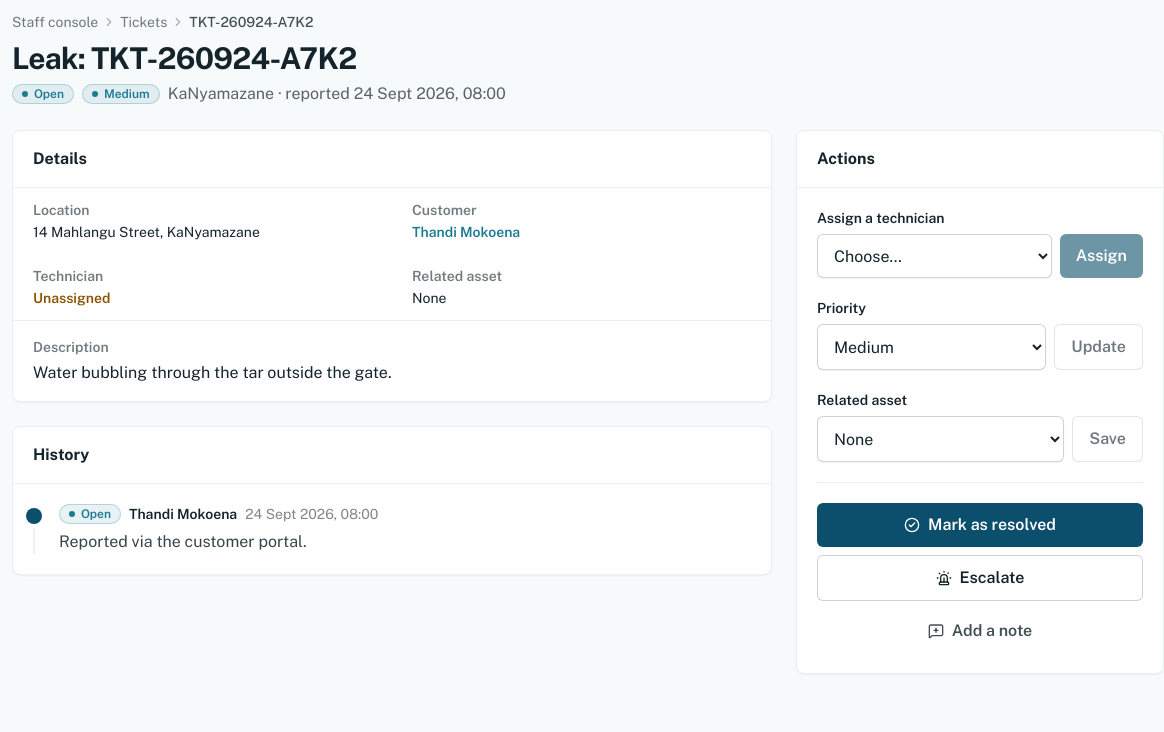
Ticket page: call centre › assigns a technician: one change with a matching history entry
Expected: the heading "Leak: TKT-260924-A7K2" is shown, [12, 40, 356, 76]
Select "Bongani Dube" in the dropdown labelled "Assign a technician" at (934,256), box [817, 234, 1052, 278]
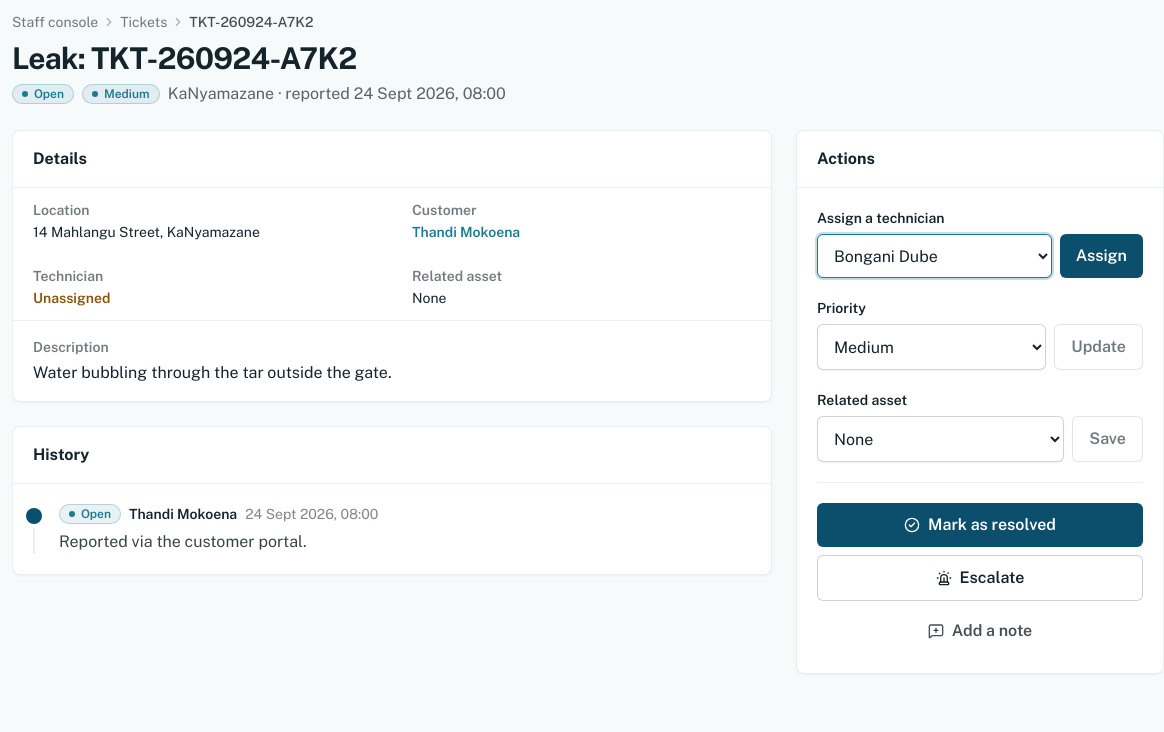
Click the button "Assign" at (1101,256), box [1060, 234, 1143, 278]
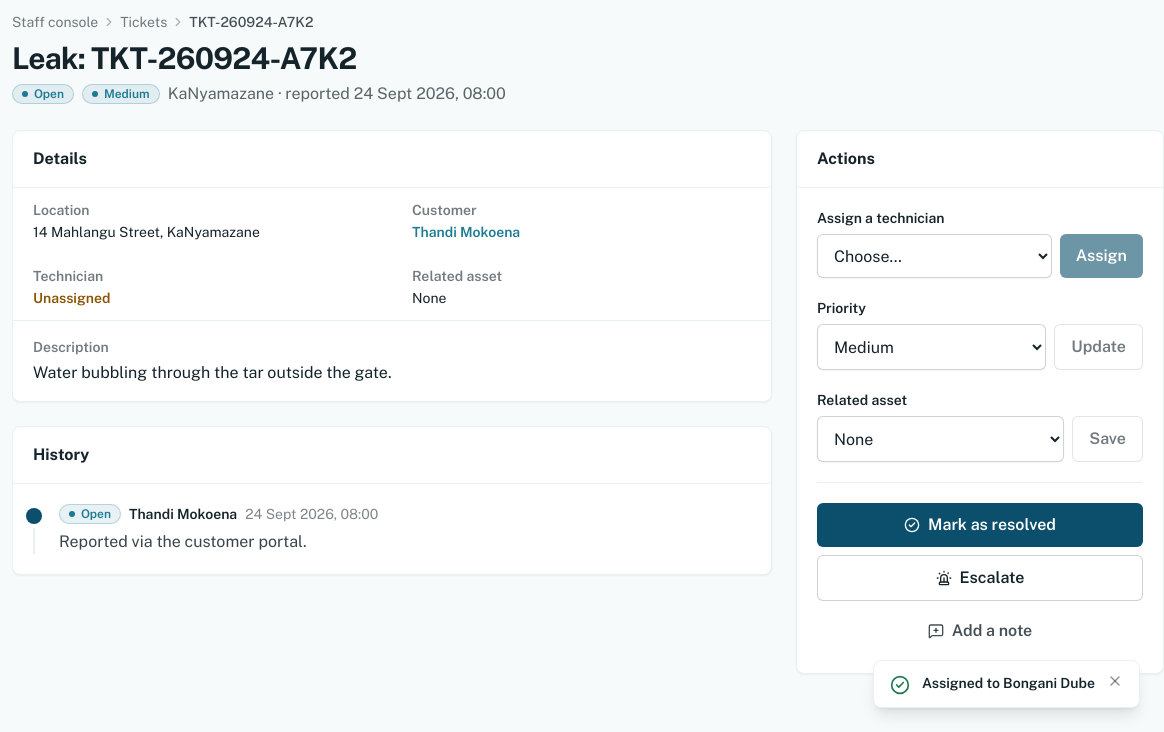
Now the text "Assigned to Bongani Dube" is shown, box [922, 673, 1095, 693]
